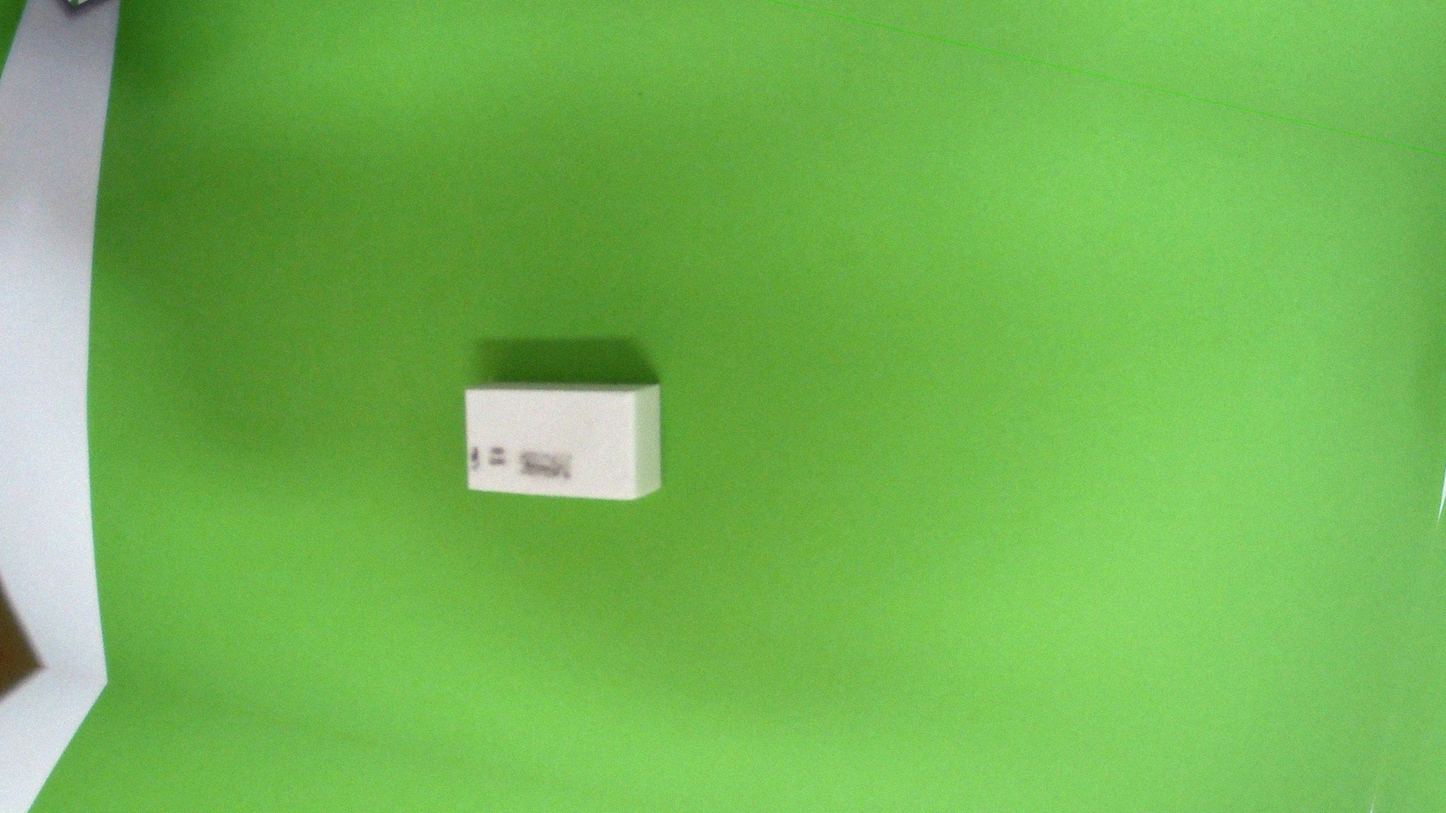gom: (444, 336, 682, 537)
